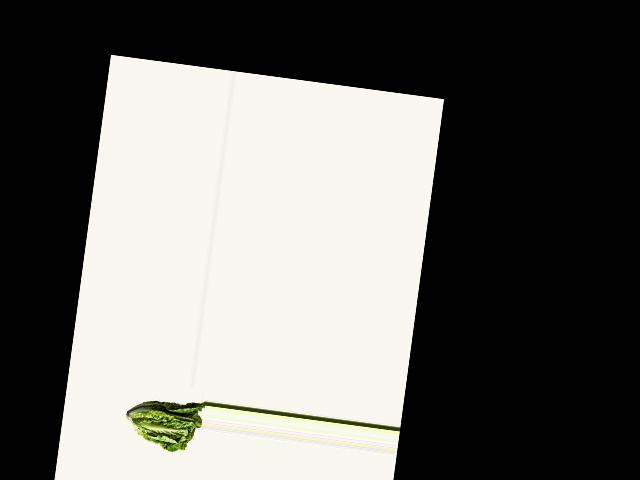lettuce: (123, 394, 204, 457)
